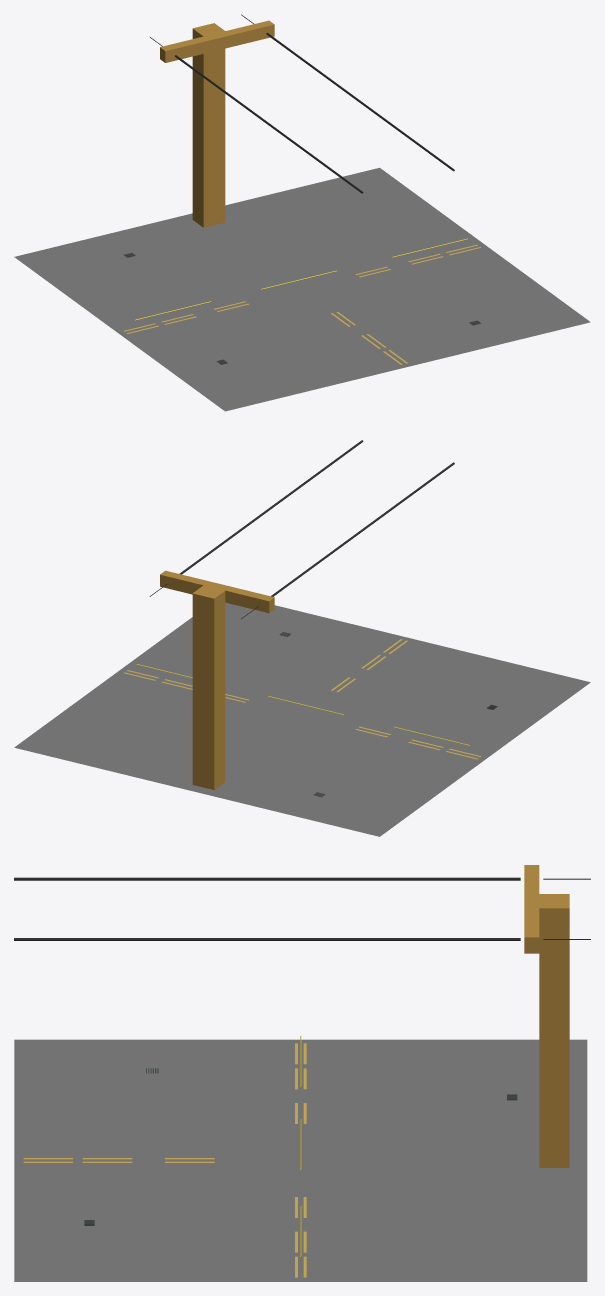
The picture shows the model from 3 angles, top to bottom: view 1: azimuth 30°, elevation 25°; view 2: azimuth 150°, elevation 25°; view 3: azimuth 270°, elevation 25°; orthographic projection. The views are drawn at different scales.
Parts seen in each view (by area): view 1: RD68 | archived geometry, RD68 | line, light and sprite surfaces, Fitted street and landscape details; view 2: RD68 | archived geometry, RD68 | line, light and sprite surfaces, Fitted street and landscape details; view 3: RD68 | archived geometry, RD68 | line, light and sprite surfaces, Fitted street and landscape details.
Boxes of the visible parts, box(x1,y1,x2,y2) form: RD68 | archived geometry: box(14, 20, 590, 411); RD68 | line, light and sprite surfaces: box(135, 14, 467, 320); Fitted street and landscape details: box(124, 244, 480, 364); RD68 | archived geometry: box(14, 570, 590, 836); RD68 | line, light and sprite surfaces: box(136, 440, 469, 745); Fitted street and landscape details: box(124, 632, 497, 797); RD68 | archived geometry: box(14, 865, 587, 1281); RD68 | line, light and sprite surfaces: box(14, 877, 590, 1256); Fitted street and landscape details: box(23, 1043, 517, 1277).
Bounding box in the file's own units: 16 × 8 × 16.11.
